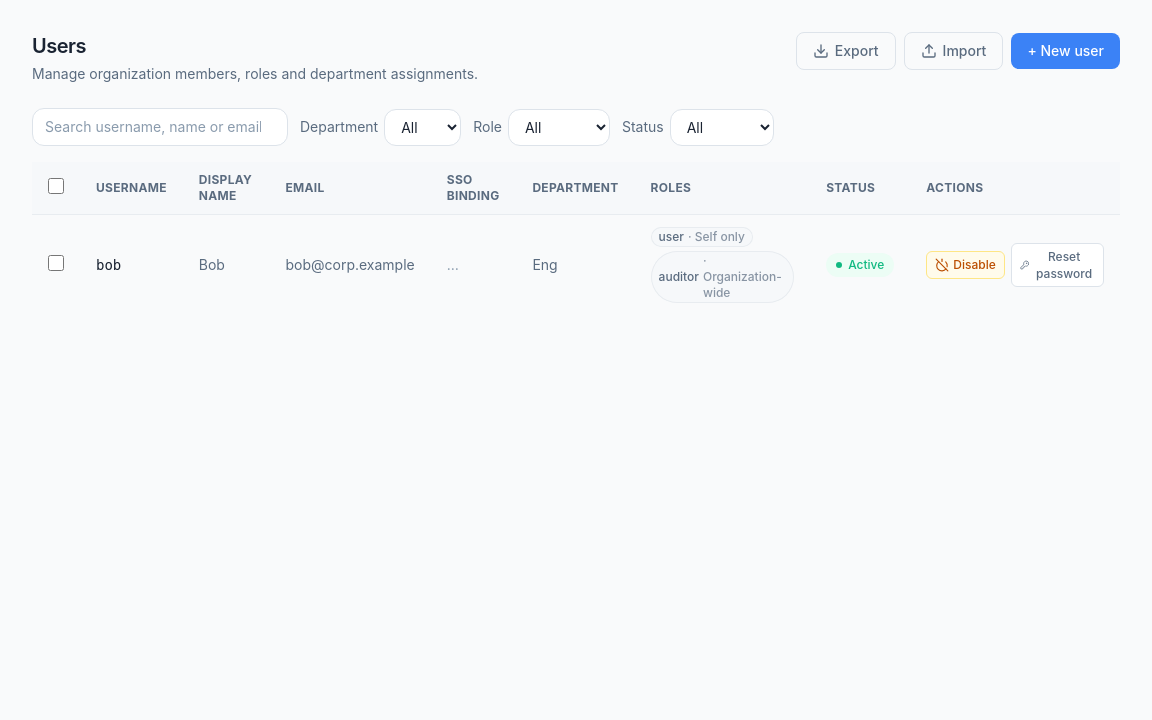
Scenario: pages/UsersPage › selecting a row reveals the batch bar with the four actions; clearing hides it
Expected: the text "bob" is shown, [96,257,121,273]
Expected: the text "1 selected" is not shown
Click the checkbox named "bob" at [56, 262], box [48,254,64,270]
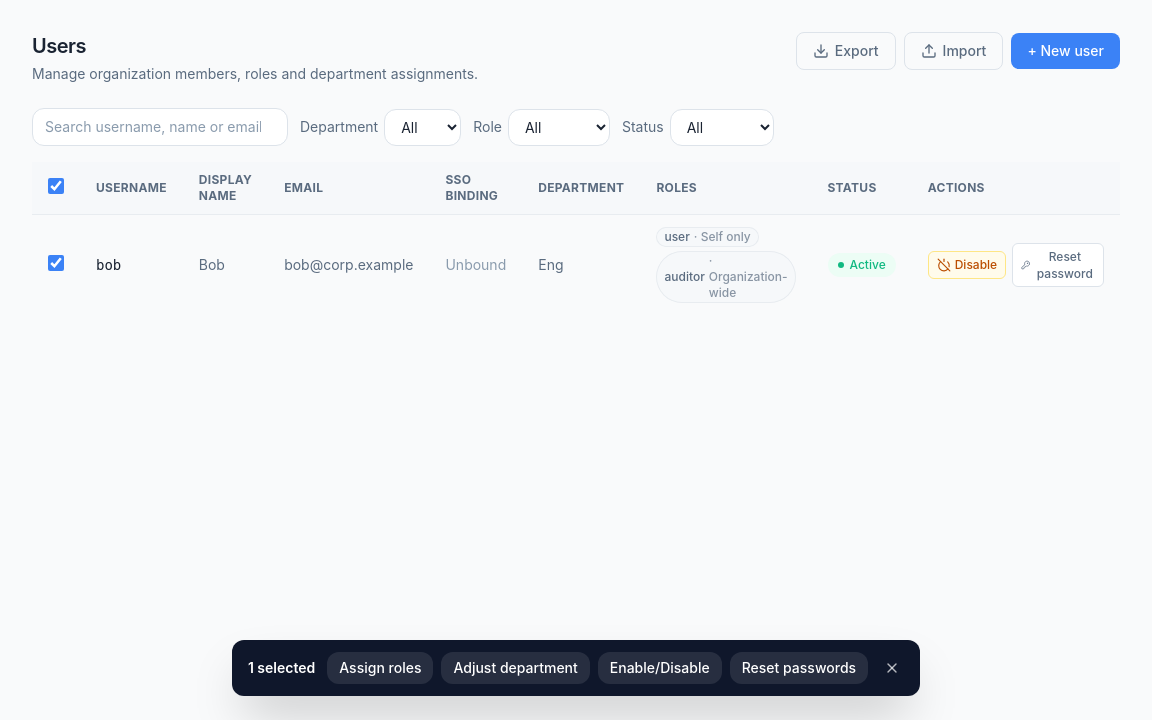
Now the text "1 selected" is shown, box [248,658,315,678]
Now the button "Assign roles" is shown, box [327,652,434,684]
Now the button "Adjust department" is shown, box [442,652,590,684]
